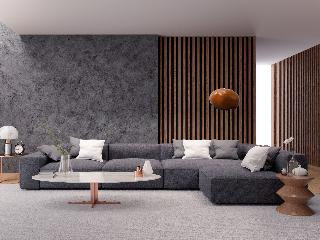potato: (206, 83, 244, 114)
